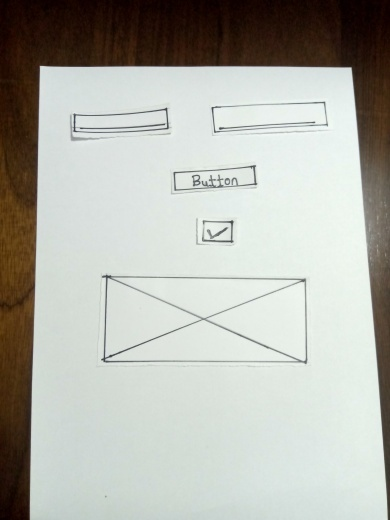button: (170, 165, 259, 189)
checkbox: (199, 217, 231, 242)
img: (102, 274, 308, 367)
text: (213, 101, 327, 129), (69, 112, 169, 136)
